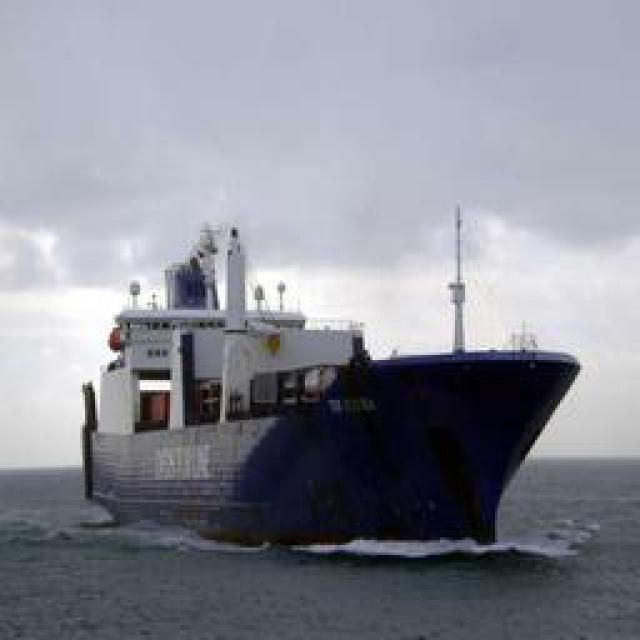Ship: (79, 201, 584, 559)
